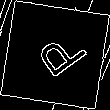P_SW: (24, 25, 86, 85)
